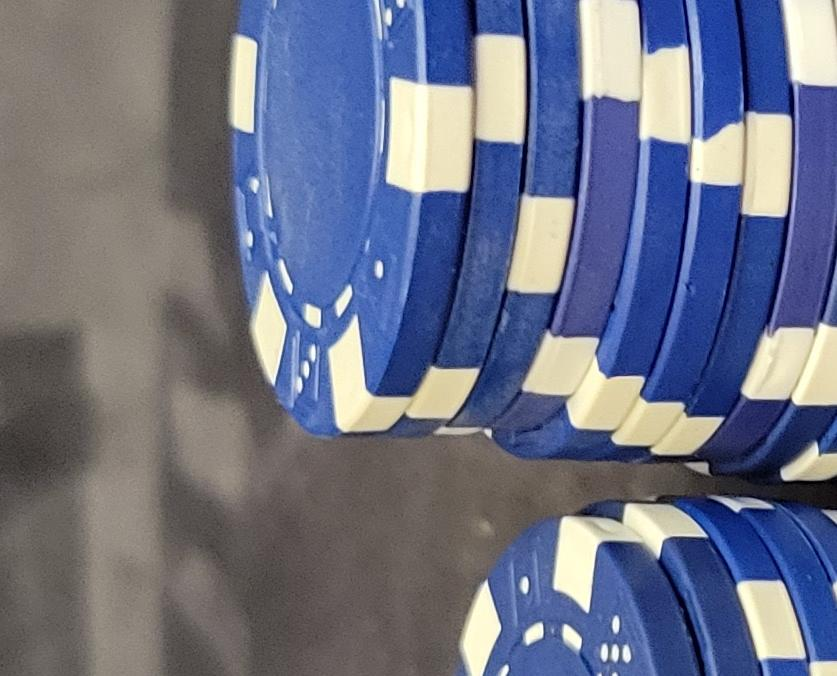Chip: (1, 355, 356, 676)
